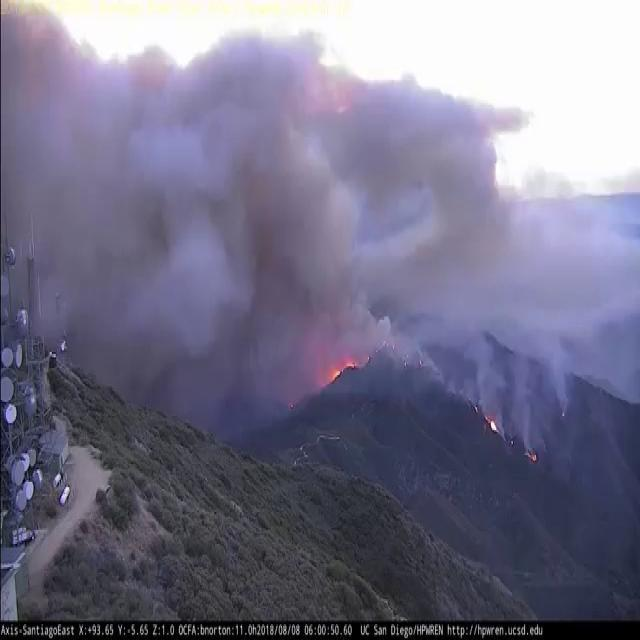Fire: (328, 357, 358, 379), (523, 446, 540, 464), (491, 414, 502, 434)
Smoke: (468, 338, 506, 416), (336, 316, 390, 356), (510, 354, 533, 442), (396, 337, 444, 373), (548, 348, 570, 419)
